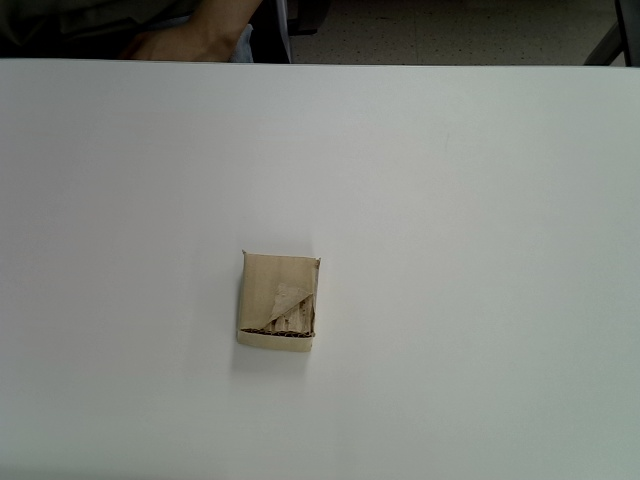defect: (234, 250, 322, 354)
